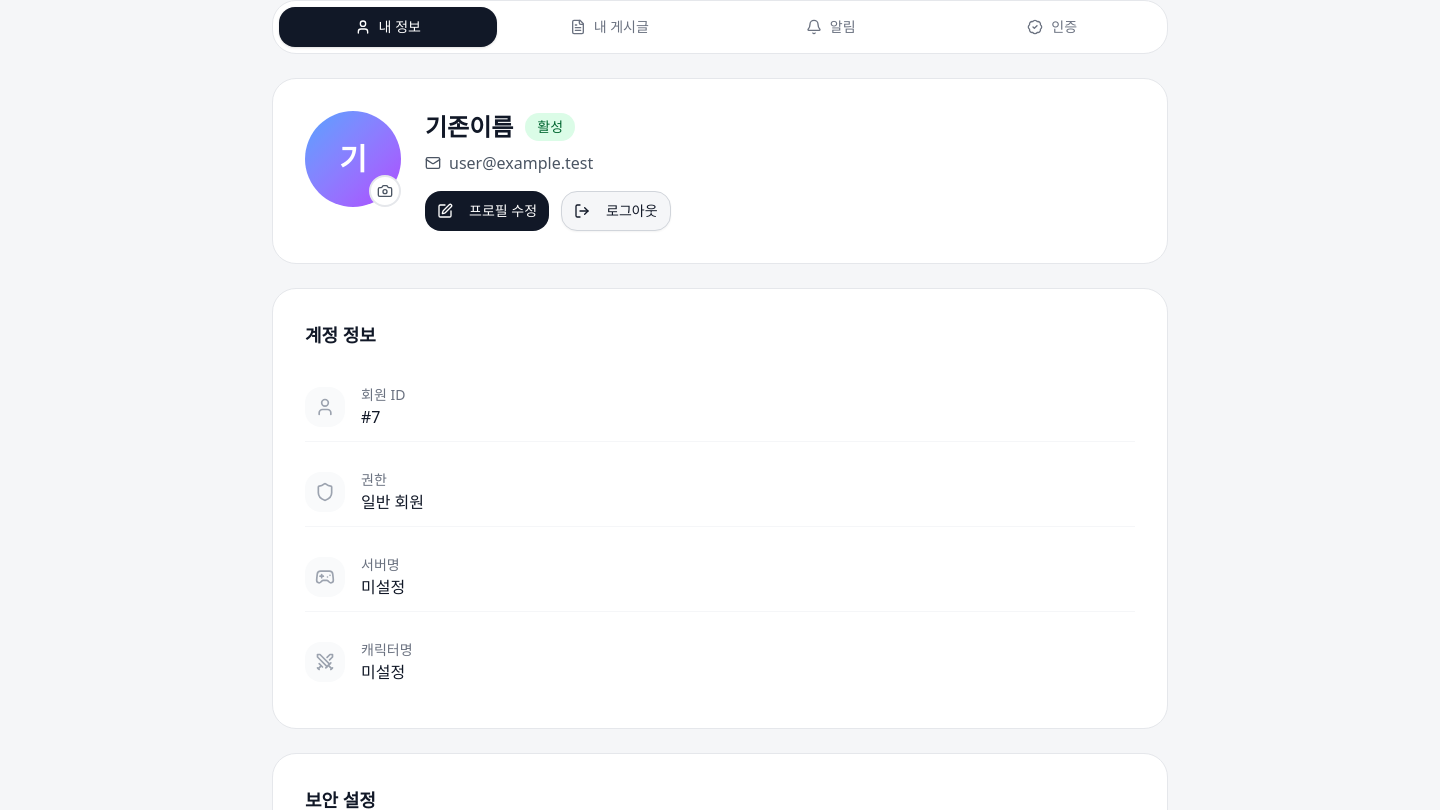
Test: 마이페이지 닉네임 변경 경계 › 서버가 만료 400을 반환해도 다시 뽑기 전 재제출을 차단한다
Click the button "프로필 수정" at (487, 211), box [425,191,549,231]
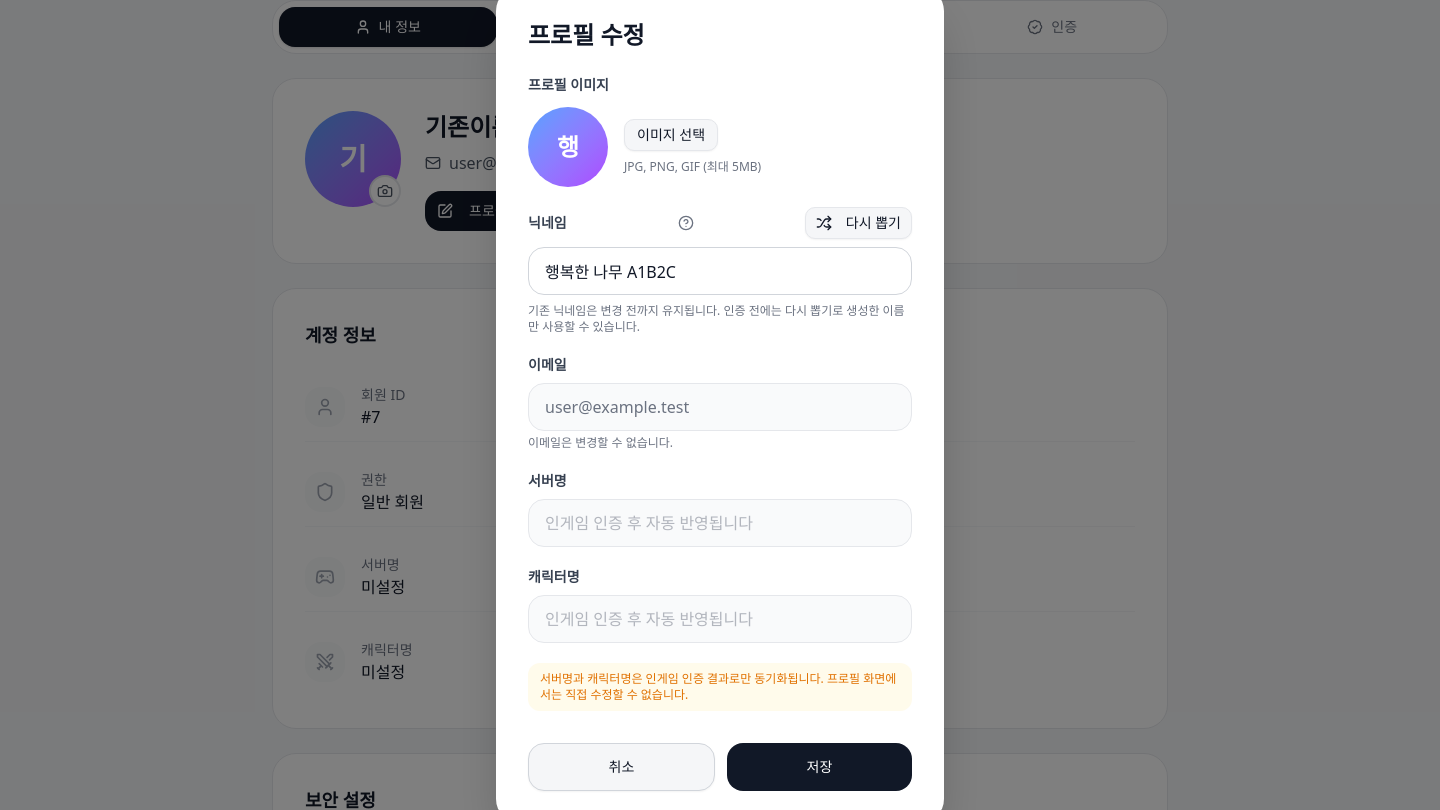
Click the button "저장" at (820, 767), box [727,743,912,791]
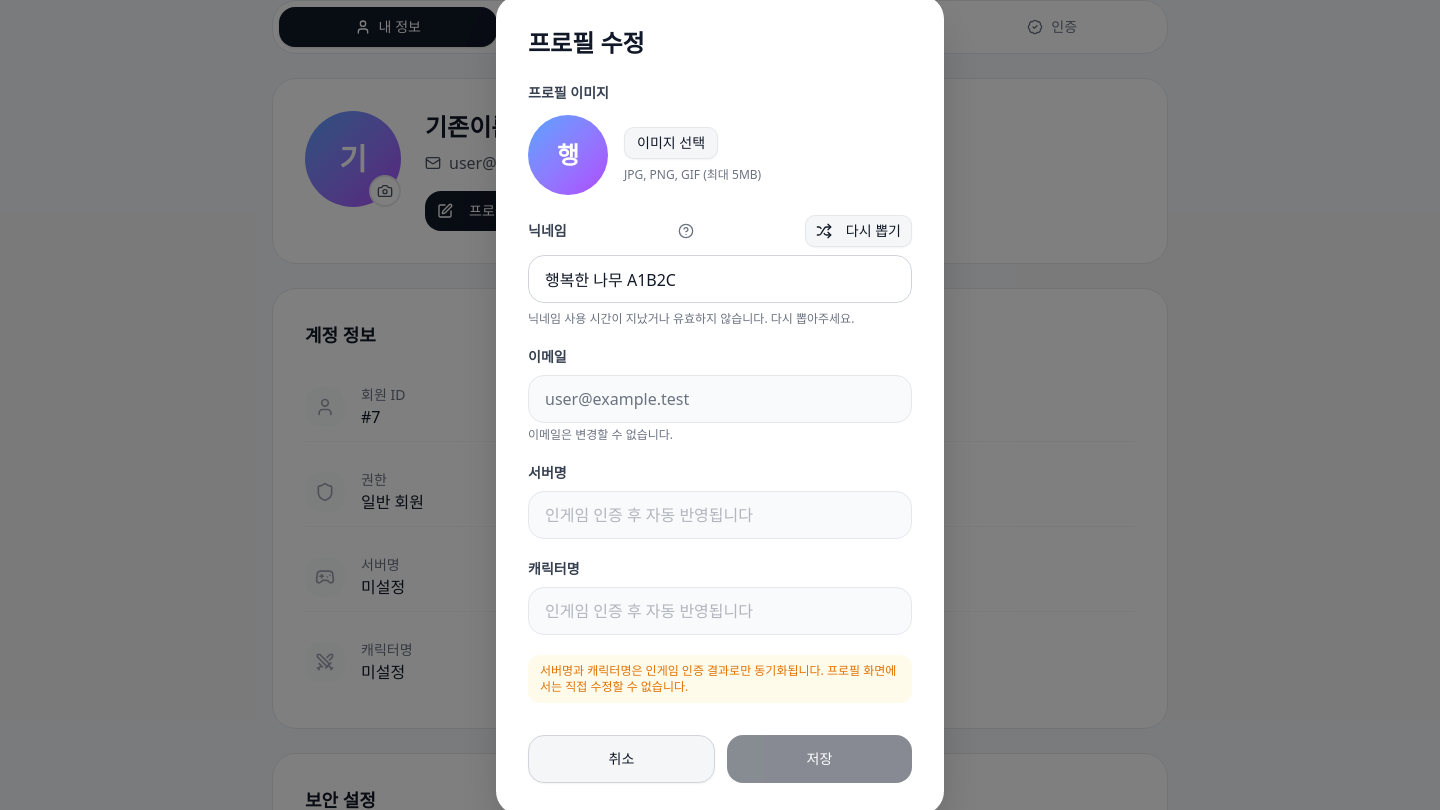
Expected: the button "저장" is disabled, [727,735,912,783]
Expected: the message shows "사용 시간이 지났거나 유효하지 않습니다", [528,310,854,327]
